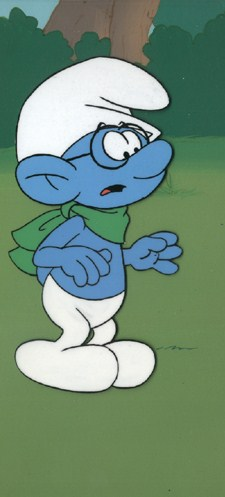smurf: (7, 58, 184, 395)
